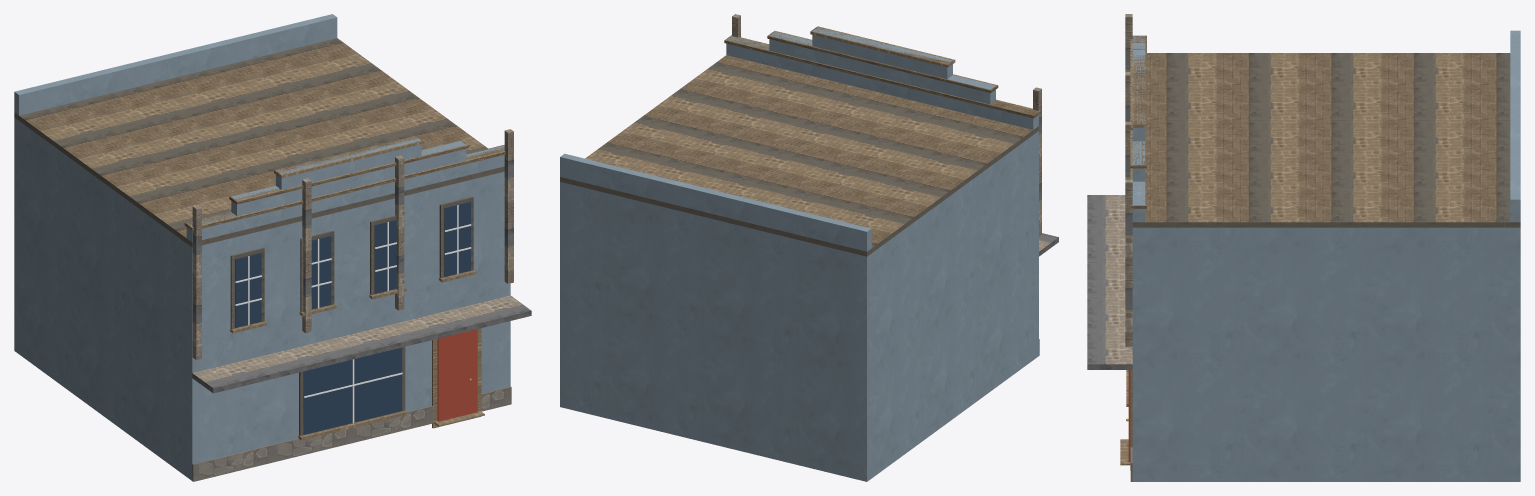
File: artdeco_w10_2.gltf
The picture shows the model from 3 angles, left to right: view 1: azimuth 30°, elevation 25°; view 2: azimuth 150°, elevation 25°; view 3: azimuth 270°, elevation 25°; orthographic projection. The views are drawn at different scales.
Visible parts, largest first — view 1: artdeco_w10_2; view 2: artdeco_w10_2; view 3: artdeco_w10_2.
Boxes of the visible parts, bbox=[...] form: artdeco_w10_2: bbox=[14, 14, 531, 481]; artdeco_w10_2: bbox=[560, 14, 1058, 481]; artdeco_w10_2: bbox=[1087, 14, 1520, 481].
Size of what is drawn, in the model's own units: 9.78 by 8.44 by 10.5.
Materials: 6 (3 with a texture image).
